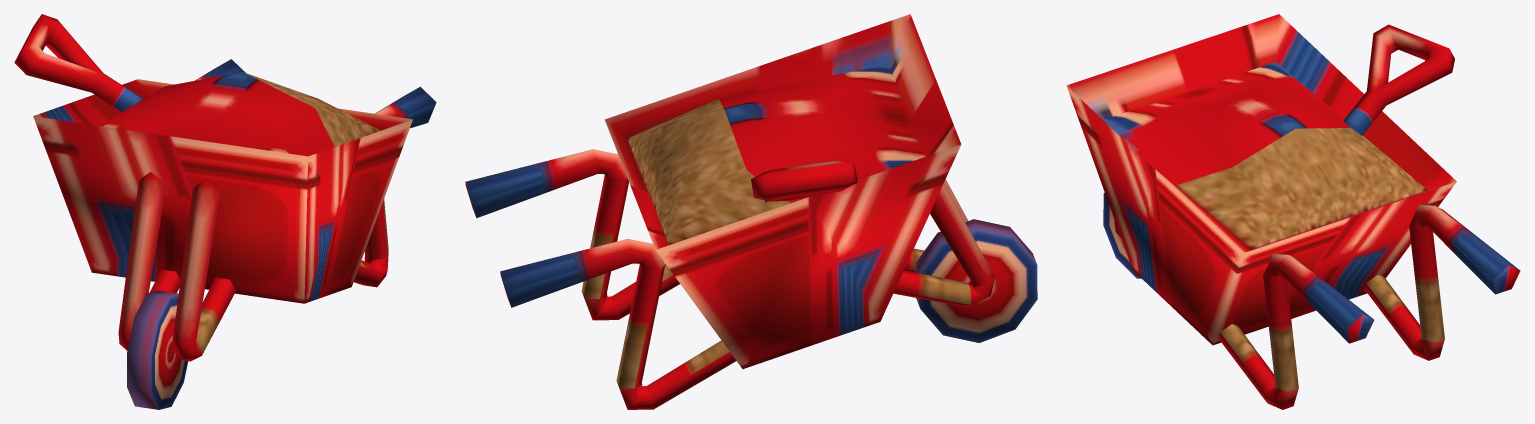
File: int_cst_handcart.dae
3 views of the same model, side by side, from view 1: azimuth 30°, elevation 25°; view 2: azimuth 150°, elevation 25°; view 3: azimuth 270°, elevation 25° (orthographic). The views are drawn at different scales.
Visible parts, largest first — view 1: int_cst_handcart; view 2: int_cst_handcart; view 3: int_cst_handcart.
Part boxes in pixels (bbox=[...]): int_cst_handcart: bbox=[14, 14, 436, 409]; int_cst_handcart: bbox=[465, 14, 1037, 409]; int_cst_handcart: bbox=[1066, 14, 1520, 409].
Size of the model in its own units: 31.33 by 17.95 by 29.78.
Materials: 1 (1 with a texture image).
